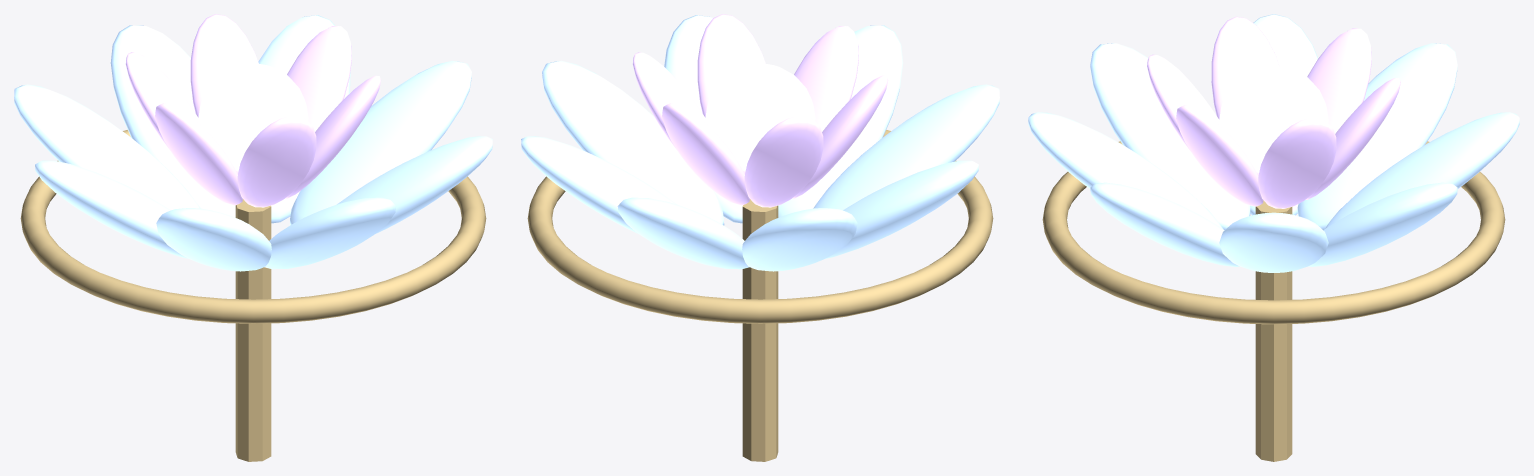
File: relic_3.glb
3 views of the same model, side by side, from view 1: azimuth 30°, elevation 25°; view 2: azimuth 150°, elevation 25°; view 3: azimuth 270°, elevation 25° (orthographic).
Parts seen in each view (by area): view 1: Sphere; view 2: Sphere; view 3: Sphere.
Part boxes in pixels (left/top/right/bottom): Sphere: left=14, top=14, right=492, bottom=461; Sphere: left=521, top=14, right=999, bottom=461; Sphere: left=1028, top=14, right=1519, bottom=461.
Size of the model in its own units: 1.1 by 0.9529 by 1.1.
